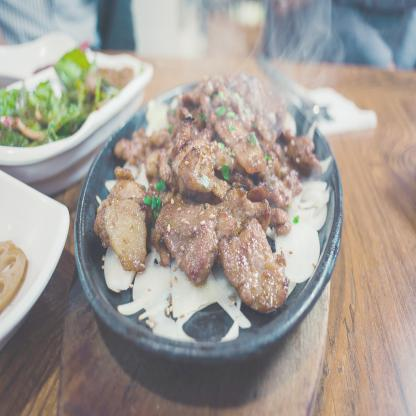Carne: (220, 222, 294, 320), (162, 195, 216, 274), (152, 116, 210, 170), (208, 111, 265, 164), (223, 193, 290, 230), (186, 138, 233, 190), (271, 128, 320, 172), (216, 87, 258, 117), (196, 90, 217, 111)
